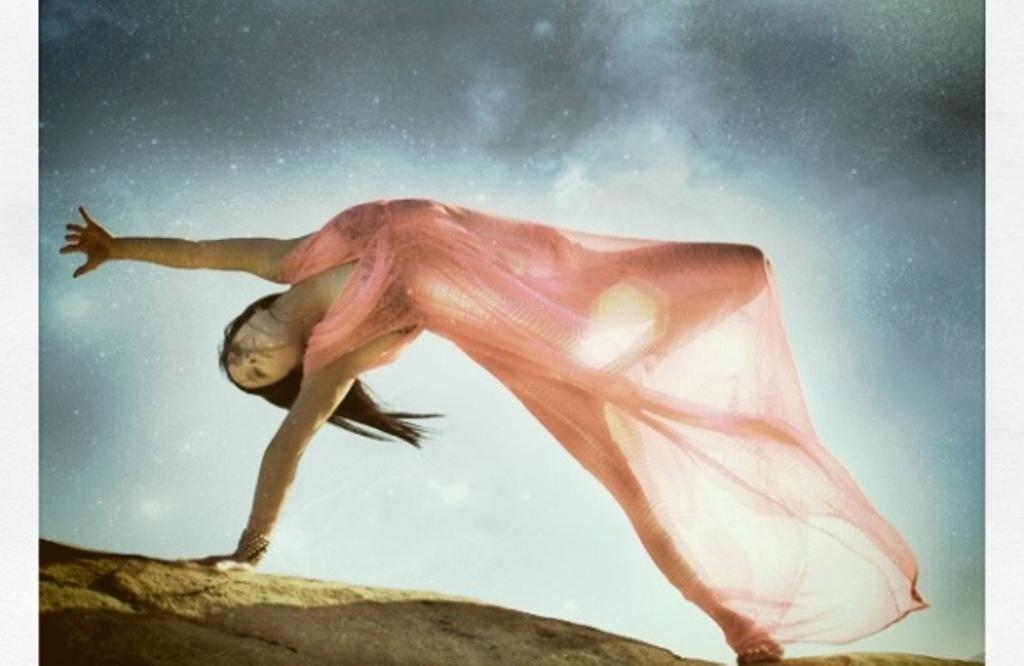face: (218, 300, 298, 386)
